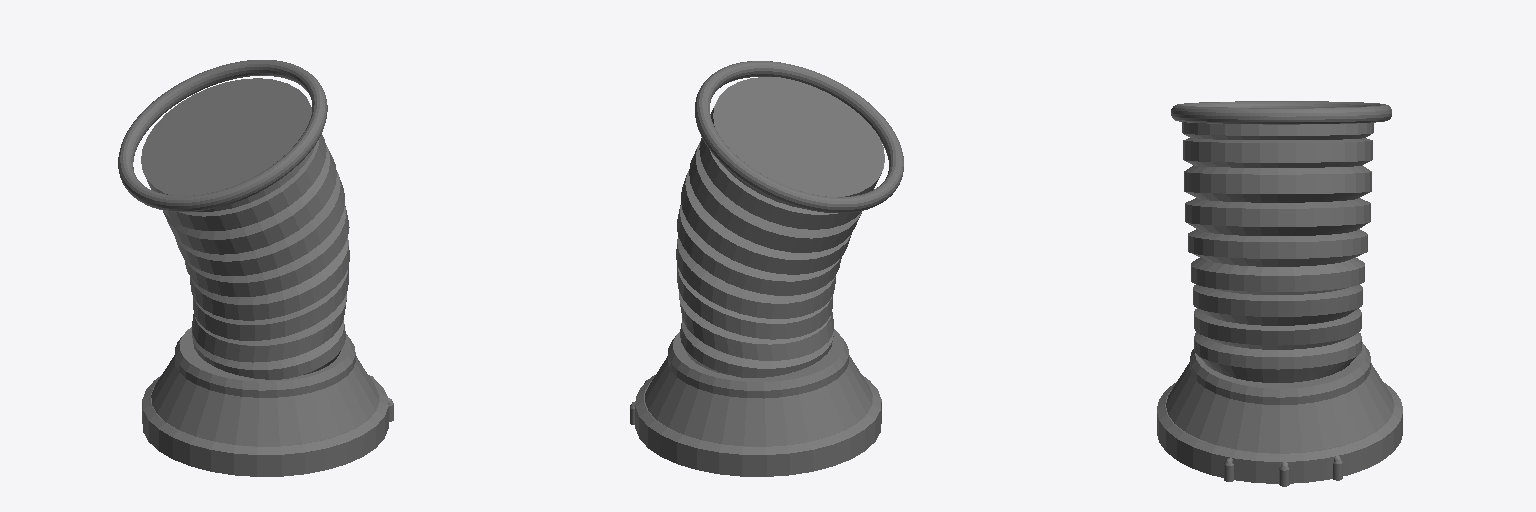
The model's file is PataTraseraDer.obj.
3 renders of one model, left to right at view 1: azimuth 30°, elevation 25°; view 2: azimuth 150°, elevation 25°; view 3: azimuth 270°, elevation 25°, orthographic.
Visible parts, largest first — view 1: C_rculo_007_C_rculo_008, C_rculo_015_C_rculo_016, C_rculo_014_C_rculo_015, C_rculo_004, C_rculo_016_C_rculo_017; view 2: C_rculo_007_C_rculo_008, C_rculo_015_C_rculo_016, C_rculo_014_C_rculo_015, C_rculo_004, C_rculo_016_C_rculo_017; view 3: C_rculo_007_C_rculo_008, C_rculo_015_C_rculo_016, C_rculo_014_C_rculo_015, C_rculo_004, C_rculo_016_C_rculo_017, Cilindro_001_Cilindro_006.
Boxes of the visible parts, box(x1,y1,x2,y2) form: C_rculo_007_C_rculo_008: box(141, 78, 349, 379); C_rculo_015_C_rculo_016: box(151, 355, 378, 446); C_rculo_014_C_rculo_015: box(142, 375, 388, 476); C_rculo_004: box(118, 60, 327, 211); C_rculo_016_C_rculo_017: box(175, 327, 355, 397); C_rculo_007_C_rculo_008: box(676, 77, 884, 377); C_rculo_015_C_rculo_016: box(645, 355, 872, 446); C_rculo_014_C_rculo_015: box(635, 375, 881, 476); C_rculo_004: box(695, 61, 903, 212); C_rculo_016_C_rculo_017: box(668, 329, 848, 398); C_rculo_007_C_rculo_008: box(1182, 122, 1373, 382); C_rculo_015_C_rculo_016: box(1166, 362, 1393, 452); C_rculo_014_C_rculo_015: box(1157, 382, 1402, 483); C_rculo_004: box(1171, 101, 1391, 124); C_rculo_016_C_rculo_017: box(1190, 342, 1370, 404); Cilindro_001_Cilindro_006: box(1224, 456, 1342, 486).
Size of the model in its own units: 1.17 by 1.58 by 1.03.